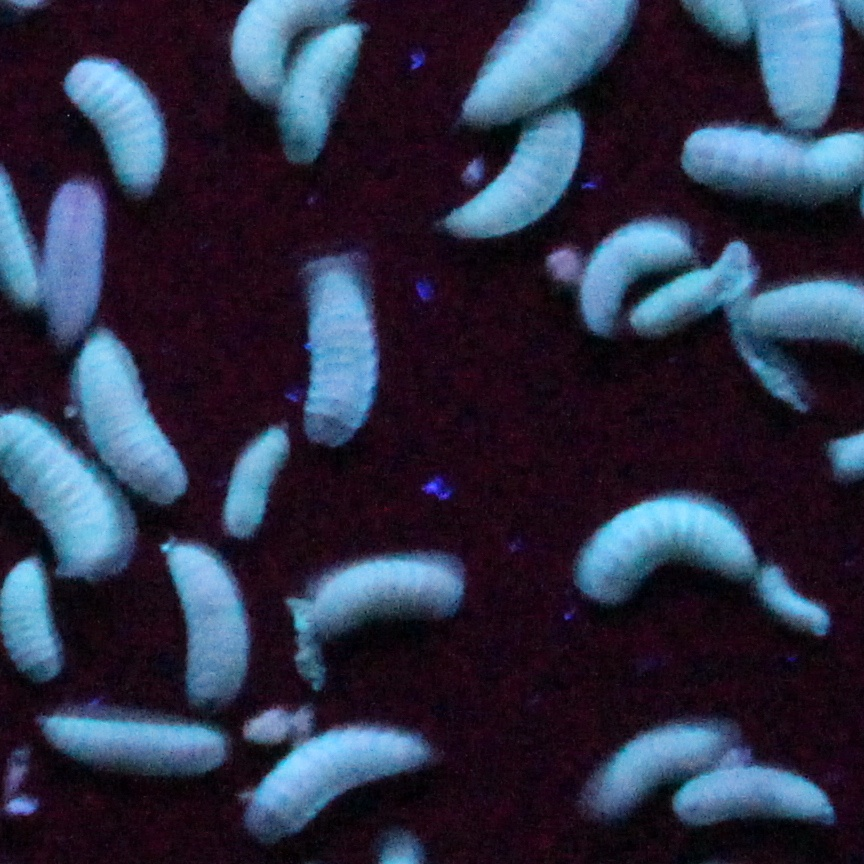larve: (572, 497, 758, 601), (448, 118, 590, 247), (253, 728, 425, 833), (78, 336, 183, 494), (162, 540, 251, 707), (302, 263, 375, 446), (36, 713, 222, 779), (68, 61, 162, 188), (589, 721, 726, 800), (41, 187, 109, 337), (576, 222, 676, 324), (637, 253, 756, 335), (308, 562, 462, 625), (286, 36, 342, 167), (673, 770, 829, 817), (227, 431, 287, 538), (764, 566, 828, 638)
